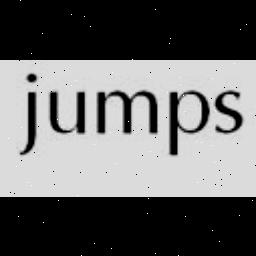j: (13, 71, 47, 165)
m: (94, 88, 160, 140)
p: (167, 87, 211, 165)
s: (213, 88, 245, 146)
u: (48, 85, 88, 139)
